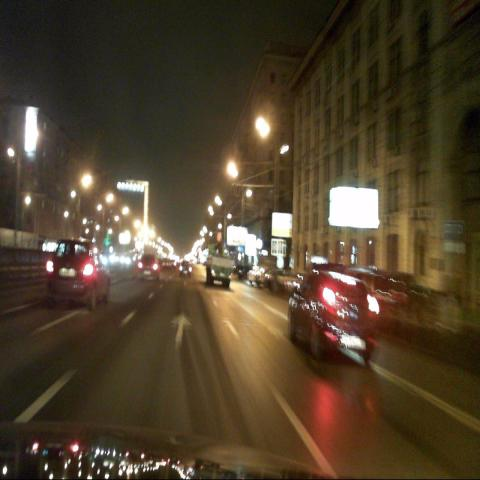6_4: (454, 221, 467, 243)
